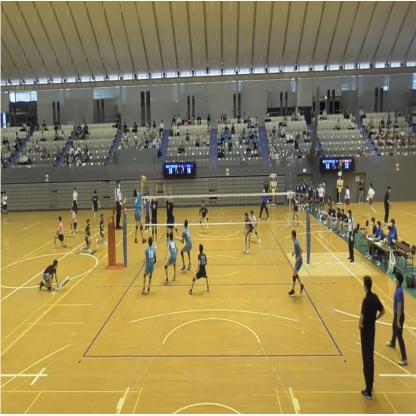spike: (131, 173, 150, 245)
